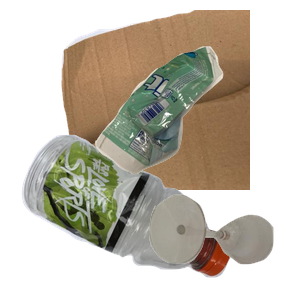cardboard: (43, 10, 283, 190)
glass: (147, 192, 300, 300)
plastic: (19, 132, 242, 300)
trash: (92, 44, 300, 211)
